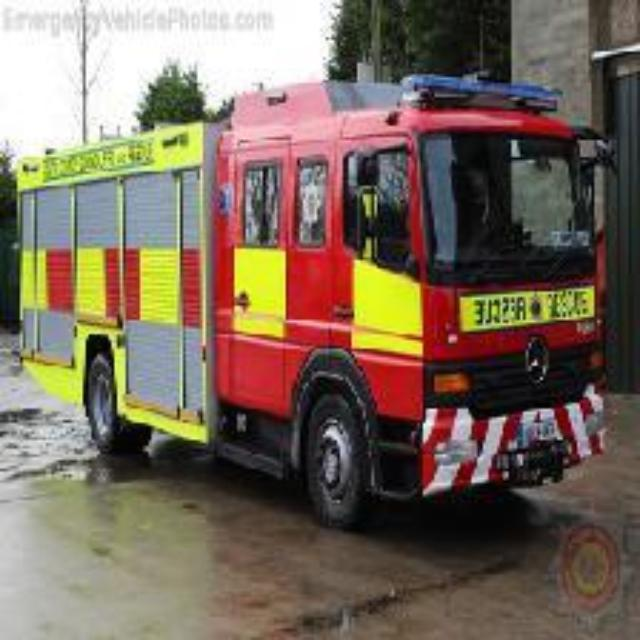emergency: (21, 69, 606, 527)
